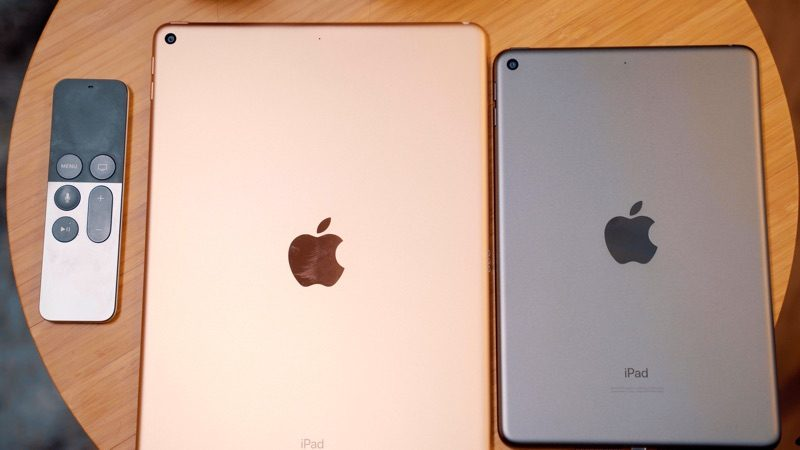apple: (273, 206, 362, 299), (598, 192, 671, 278)
